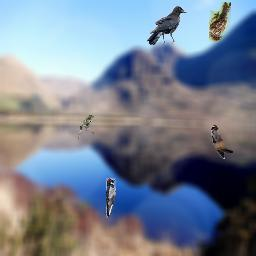Crow: (147, 6, 187, 45)
Sparrow: (209, 2, 231, 42), (77, 115, 94, 140)
Woodpecker: (211, 125, 233, 159), (106, 178, 116, 218)
